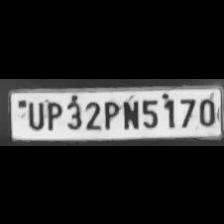0: (196, 94, 216, 126)
1: (160, 95, 176, 127)
2: (83, 97, 101, 129)
3: (63, 97, 81, 129)
5: (138, 96, 160, 128)
7: (176, 94, 194, 128)
N: (120, 96, 138, 130)
P: (43, 98, 62, 130), (102, 97, 120, 129)
U: (23, 97, 43, 129)
